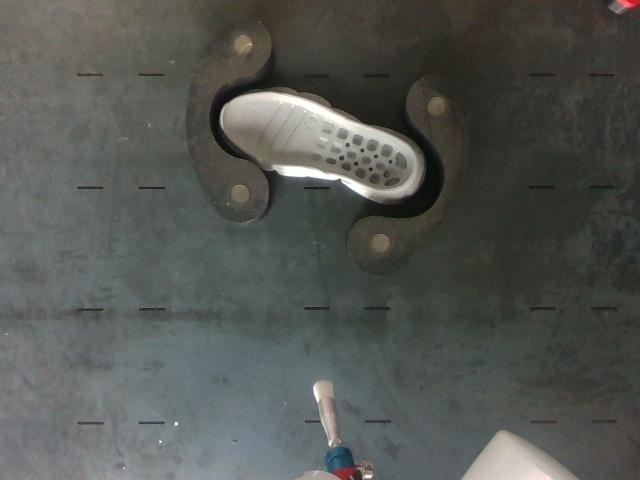shoes: (221, 93, 416, 192)
